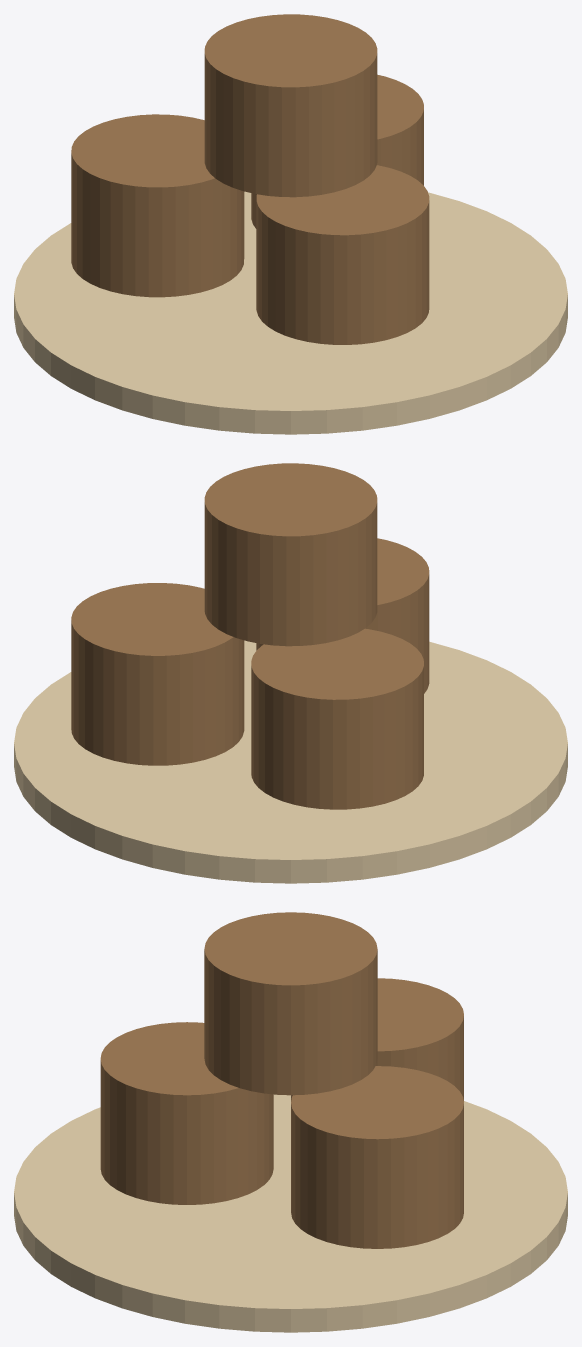
File: gula-melaka.glb
3 renders of one model, top to bottom at view 1: azimuth 30°, elevation 25°; view 2: azimuth 150°, elevation 25°; view 3: azimuth 270°, elevation 25°, orthographic.
Visible parts, largest first — view 1: geometry_0, geometry_4, geometry_1, geometry_3, geometry_2; view 2: geometry_0, geometry_4, geometry_1, geometry_2, geometry_3; view 3: geometry_0, geometry_4, geometry_2, geometry_3, geometry_1.
Part boxes in pixels (x1,y1,x2,y2): geometry_0: (14,191,567,434); geometry_4: (204,14,377,197); geometry_1: (71,114,244,297); geometry_3: (256,165,429,344); geometry_2: (251,74,423,228); geometry_0: (14,640,567,883); geometry_4: (204,463,377,646); geometry_1: (251,628,423,809); geometry_2: (71,583,244,765); geometry_3: (256,538,429,693); geometry_0: (14,1094,567,1332); geometry_4: (204,912,377,1095); geometry_2: (291,1066,463,1248); geometry_3: (100,1022,273,1204); geometry_1: (291,978,463,1101).
Bounding box in the file's own units: 0.32 × 0.17 × 0.32.
